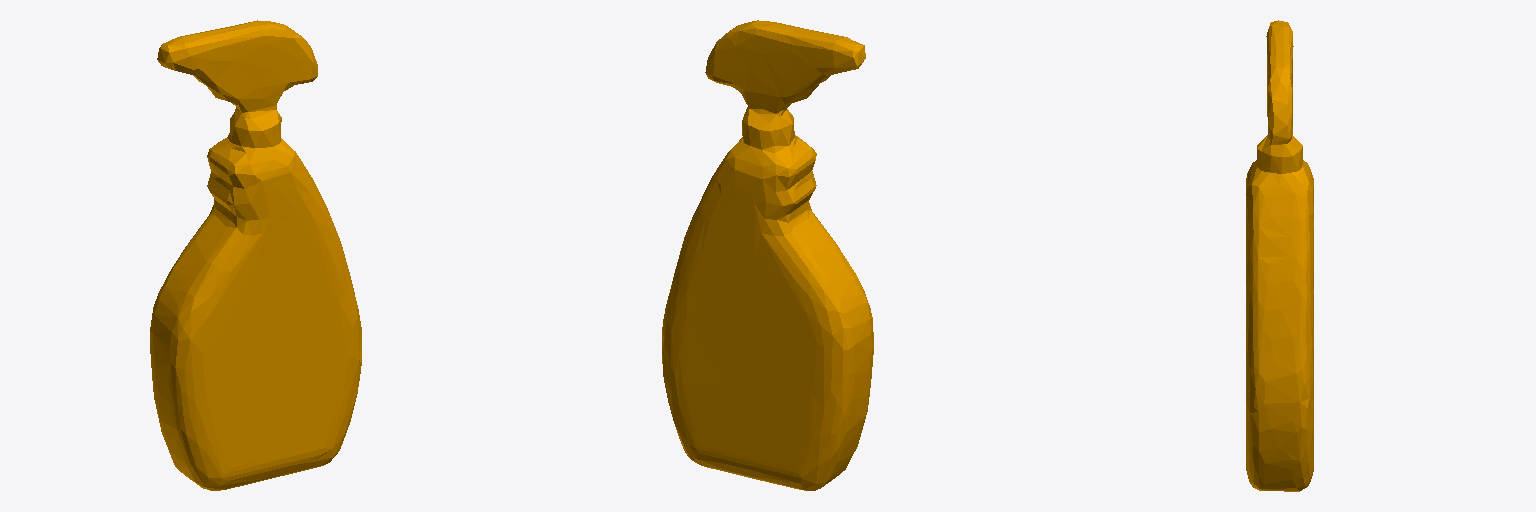
The robot description file, URDF, robot "spray_bottle_poisson_000":
<?xml version="1.0"?>
<robot name="spray_bottle_poisson_000">
  <link name="base_link">
    <contact>
      <lateral_friction value="1.0"/>
      <rolling_friction value="0.0"/>
      <contact_cfm value="0.0"/>
      <contact_erp value="1.0"/>
    </contact>
    <inertial>
      <mass value="0.371887837849"/>
      <inertia ixx="1" ixy="0" ixz="0" iyy="1" iyz="0" izz="1"/>
    </inertial>
    <visual>
      <geometry>
        <mesh filename="spray_bottle_poisson_000_visual.obj"/>
      </geometry>
    </visual>
    <collision>
      <geometry>
        <mesh filename="spray_bottle_poisson_000_collision.obj"/>
      </geometry>
    </collision>
  </link>
</robot>

--- What the picture shows (computed from the rendered views, not written in the file) ---
Views: 3 orthographic renders of the robot side by side, from view 1: azimuth 30°, elevation 25°; view 2: azimuth 150°, elevation 25°; view 3: azimuth 270°, elevation 25°.
Model spray_bottle_poisson_000 with 1 links and 0 joints (none), rooted at base_link, posed every joint at zero.
Visible links, largest first — view 1: base_link; view 2: base_link; view 3: base_link.
Boxes of the visible links, <box> form: base_link: <box>150,20,361,490</box>; base_link: <box>662,20,873,490</box>; base_link: <box>1246,20,1313,491</box>.
Bounding box of the posed robot: 0.07 × 0.0241 × 0.1583 m (x, y, z).
1 mesh visuals loaded from 1 distinct referenced files (1 OBJ).